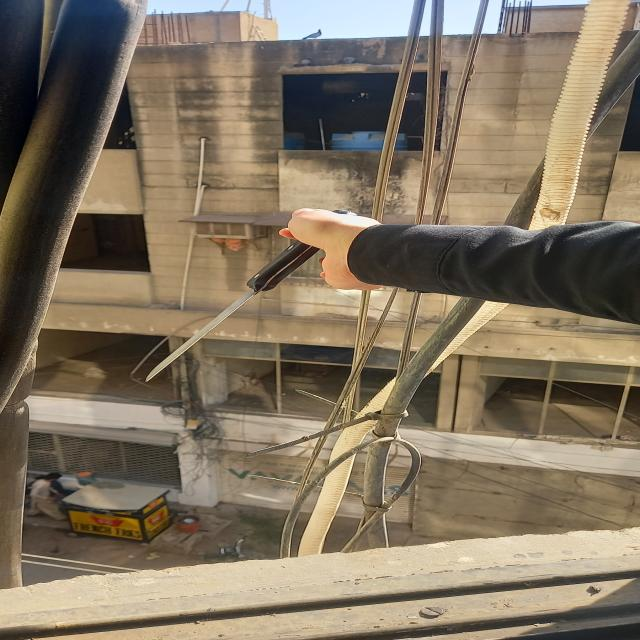Knife: (144, 206, 360, 384)
